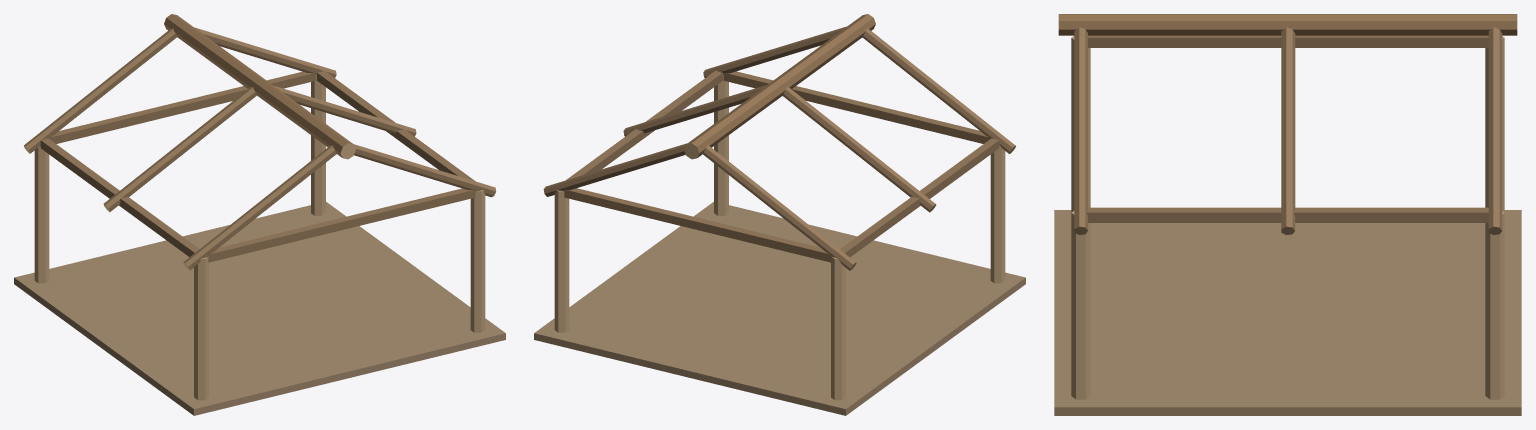
Rendered from building_chief_hall_frame.glb.
The picture shows the model from 3 angles, left to right: view 1: azimuth 30°, elevation 25°; view 2: azimuth 150°, elevation 25°; view 3: azimuth 270°, elevation 25°; orthographic projection. The views are drawn at different scales.
Visible parts, largest first — view 1: building_chief_hall_frame; view 2: building_chief_hall_frame; view 3: building_chief_hall_frame.
Boxes of the visible parts, <box> form: building_chief_hall_frame: <box>14,14,505,415</box>; building_chief_hall_frame: <box>534,14,1025,415</box>; building_chief_hall_frame: <box>1054,14,1521,415</box>.
Size of the model in its own units: 4.85 by 3.47 by 4.85.
